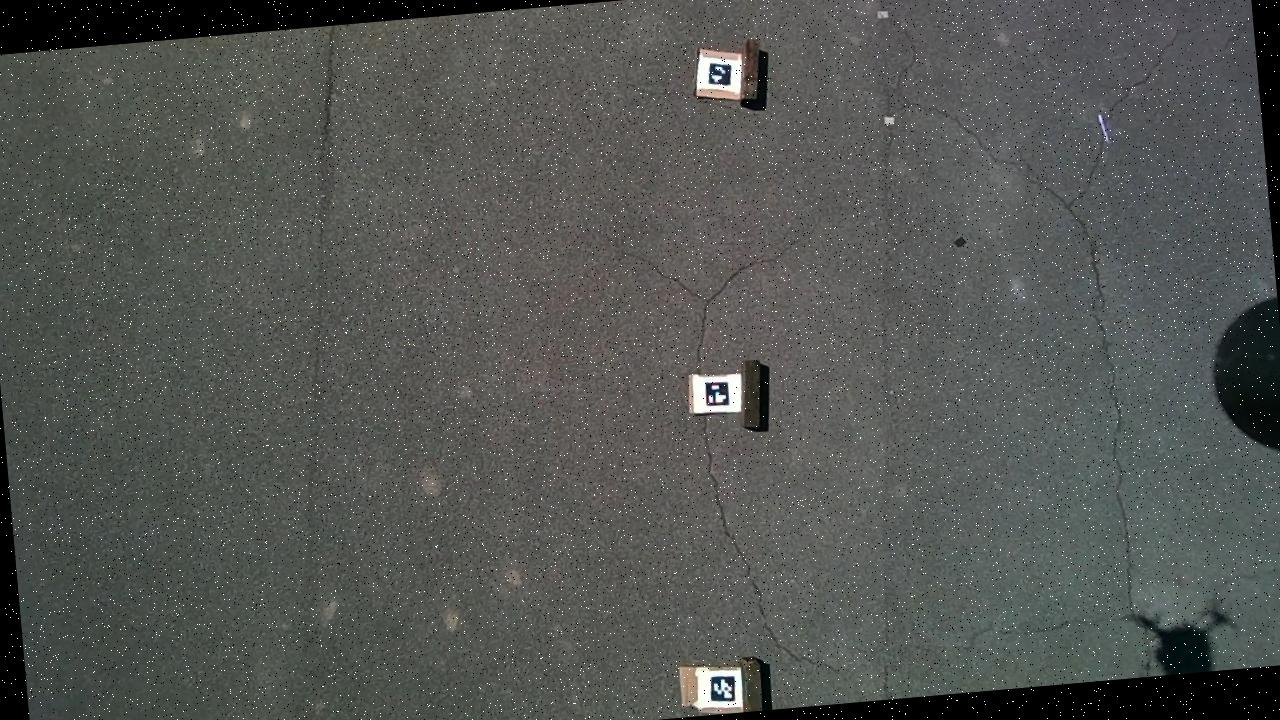probes: (1097, 113, 1110, 144)
